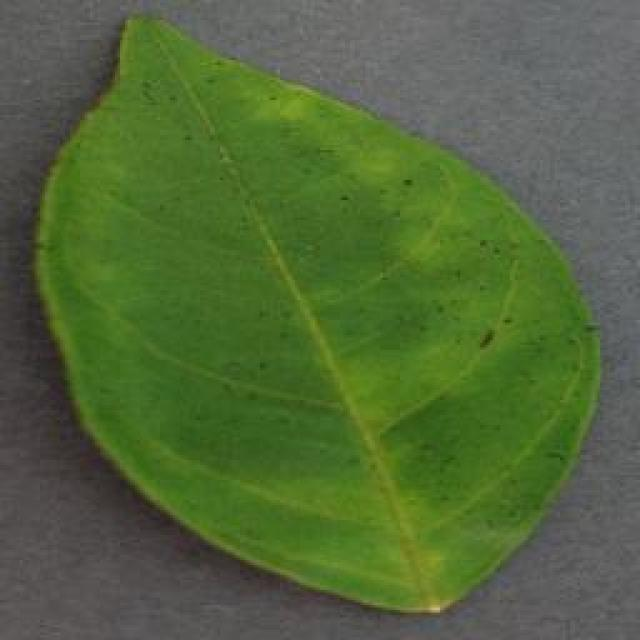Orange_Haunglongbing_Citrus_greening: (89, 94, 496, 520)
